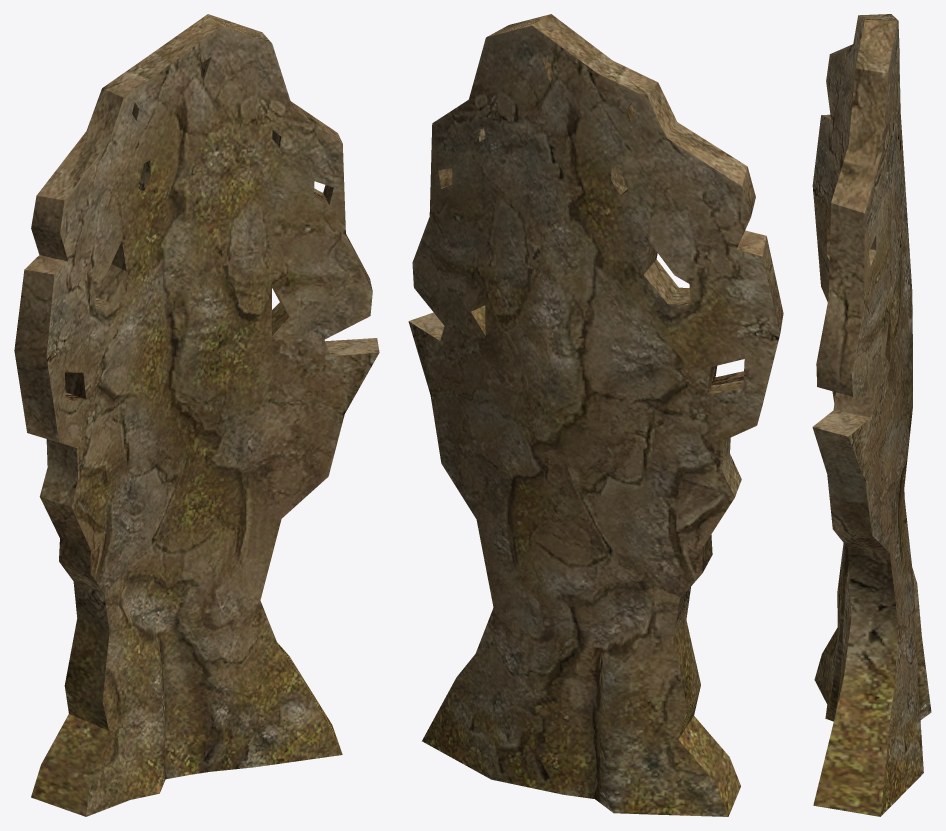
The model's file is double_01.fbx.
3 renders of one model, left to right at view 1: azimuth 30°, elevation 25°; view 2: azimuth 150°, elevation 25°; view 3: azimuth 270°, elevation 25°, orthographic. The views are drawn at different scales.
Visible parts, largest first — view 1: objdouble_01; view 2: objdouble_01; view 3: objdouble_01.
Boxes of the visible parts, left/top/right/bottom form: objdouble_01: left=14, top=14, right=379, bottom=816; objdouble_01: left=408, top=14, right=783, bottom=816; objdouble_01: left=812, top=14, right=931, bottom=816.
Size of the model in its own units: 5.07 by 9.8 by 1.43.
